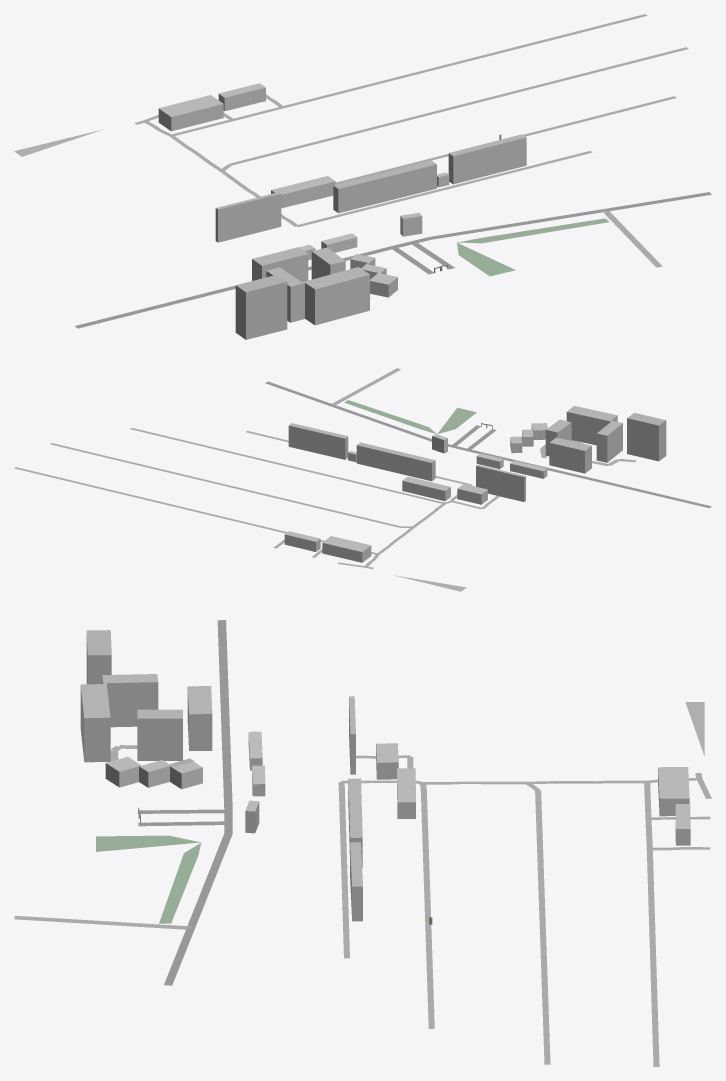
3 views of the same model, one above another, from view 1: azimuth 30°, elevation 25°; view 2: azimuth 150°, elevation 25°; view 3: azimuth 270°, elevation 25° (orthographic). The views are drawn at different scales.
Size of the model in its own units: 869 by 53.93 by 573.
